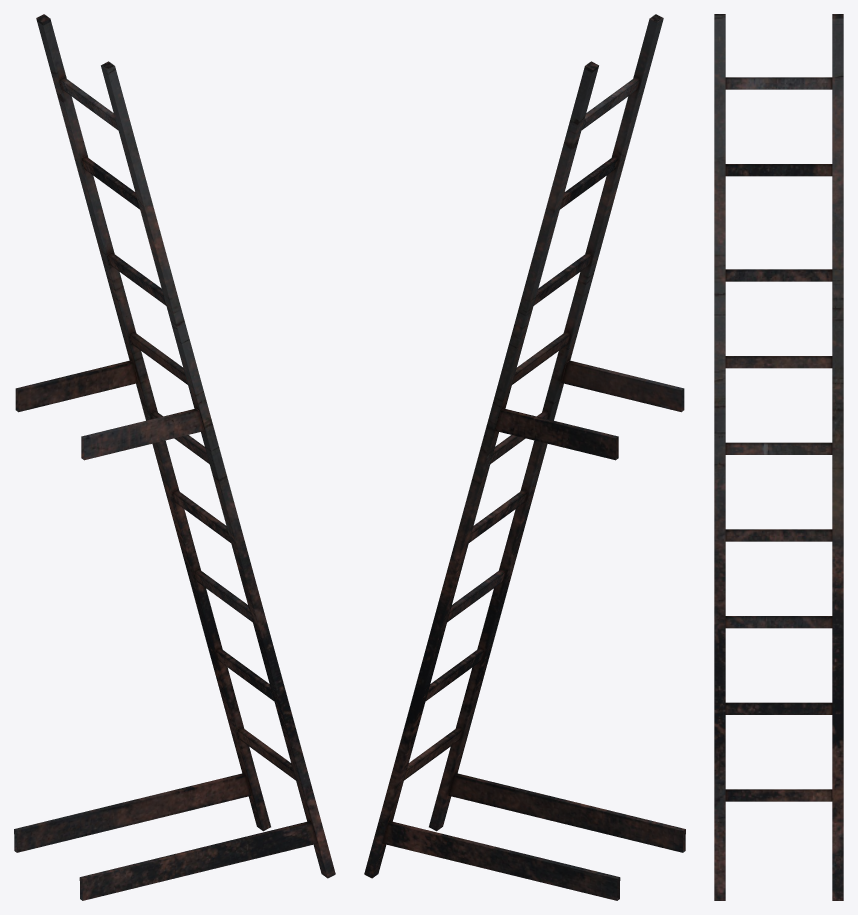
File: Ladder_02.FBX
3 renders of one model, left to right at view 1: azimuth 30°, elevation 25°; view 2: azimuth 150°, elevation 25°; view 3: azimuth 270°, elevation 25°, orthographic. The views are drawn at different scales.
Parts seen in each view (by area): view 1: Ladder_02; view 2: Ladder_02; view 3: Ladder_02.
Part boxes in pixels (x1,y1,x2,y2): Ladder_02: (14, 14, 335, 900); Ladder_02: (364, 14, 685, 900); Ladder_02: (714, 14, 843, 900).
Bounding box in the file's own units: 155 × 509 × 75.75.
